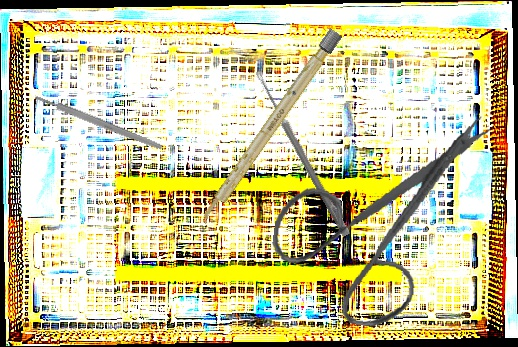Iris Scissors: (262, 87, 494, 340)
Scalpel Handle: (197, 28, 343, 227), (33, 92, 164, 152)
Surgical Spoon: (252, 69, 352, 238)
